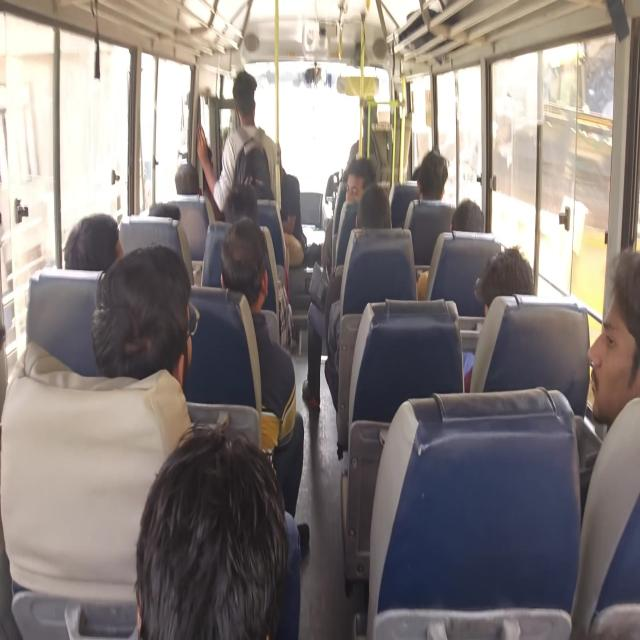person: (121, 463, 293, 640), (84, 262, 192, 380), (579, 280, 640, 444), (222, 63, 277, 204), (72, 205, 142, 288), (264, 144, 303, 266), (218, 226, 272, 308), (478, 263, 538, 335), (422, 147, 464, 219), (358, 192, 403, 246), (454, 192, 485, 250), (153, 196, 192, 238), (350, 157, 380, 201), (223, 177, 260, 210), (176, 166, 200, 211), (247, 168, 277, 202), (414, 165, 425, 188)
